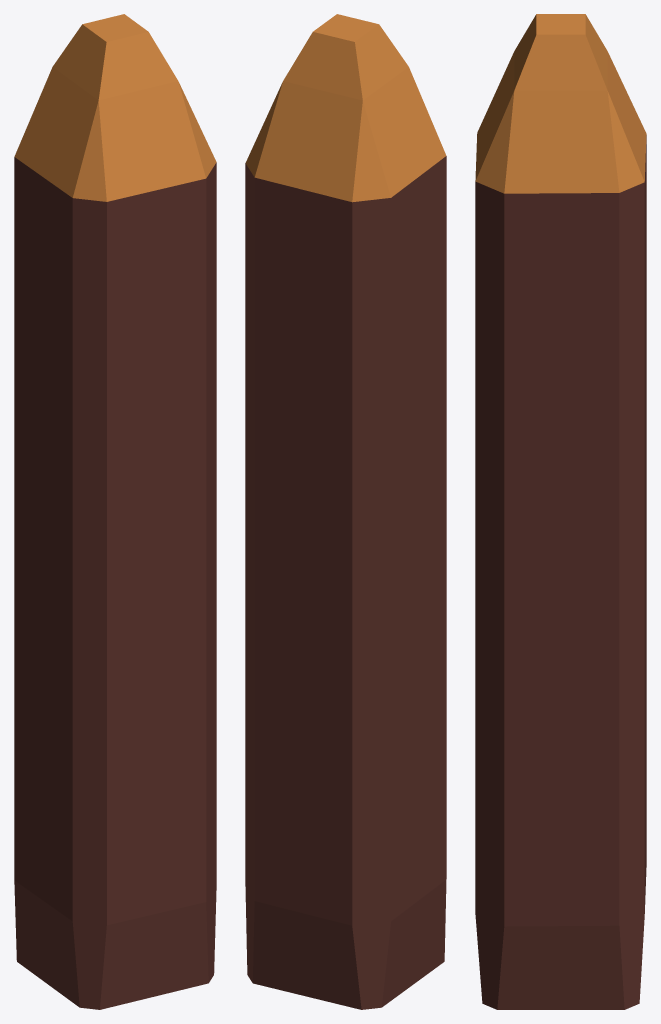
Rendered from pillar_high.fbx.
The picture shows the model from 3 angles, left to right: view 1: azimuth 30°, elevation 25°; view 2: azimuth 150°, elevation 25°; view 3: azimuth 270°, elevation 25°; orthographic projection.
Visible parts, largest first — view 1: Cube.006; view 2: Cube.006; view 3: Cube.006.
Part boxes in pixels (x1=…): Cube.006: x1=14, y1=14, x2=216, y2=1009; Cube.006: x1=245, y1=14, x2=446, y2=1009; Cube.006: x1=475, y1=14, x2=646, y2=1009.
Size of the model in its own units: 43.58 by 268 by 43.58.
